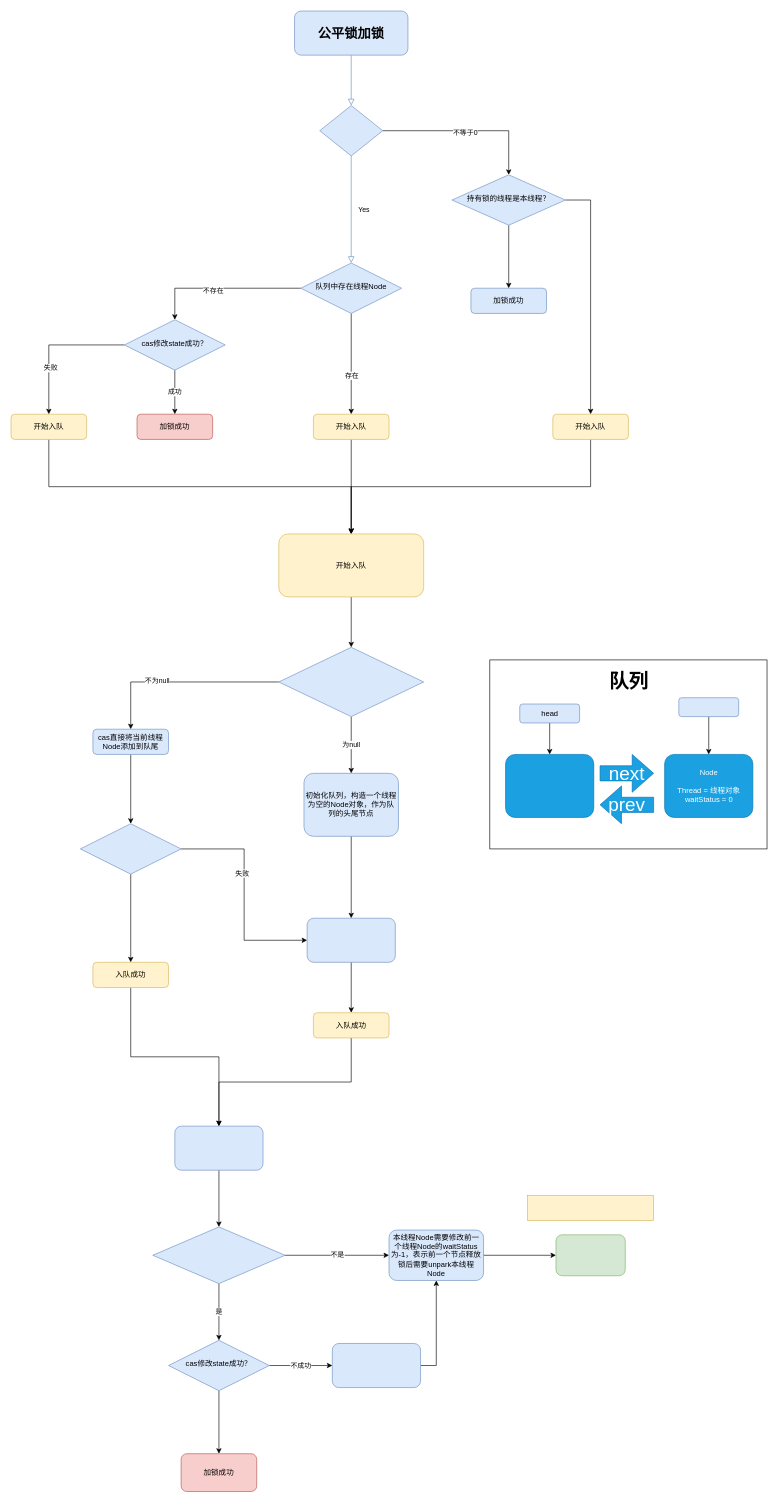
The diagram is 778 pixels wide and 1503 high, and some of its shapes have lost their labels. The centre of each missing label's shape, as x and y in pixels:
"cas成功？" goes at point (130, 848).
"Node Thread = null waitStatus = 0" goes at point (549, 785).
"status = 0?" goes at point (351, 130).
"tail" goes at point (708, 707).
"如果当前线程Node是队列 的第一个线程Node？" goes at point (218, 1255).
"当前线程park" goes at point (590, 1255).
"当前队列尾结点是否为null， 也就是队列是否为空？" goes at point (351, 682).
"线程Node入队之后能否获取到锁？" goes at point (218, 1147).
"线程加锁时，但队列中已经有线程 在排队了，当前线程就可能会park" goes at point (590, 1208).
"自旋入队" goes at point (350, 940).
"非公平锁的情况下，有可能state被其他线程提前改了" goes at point (376, 1365).
